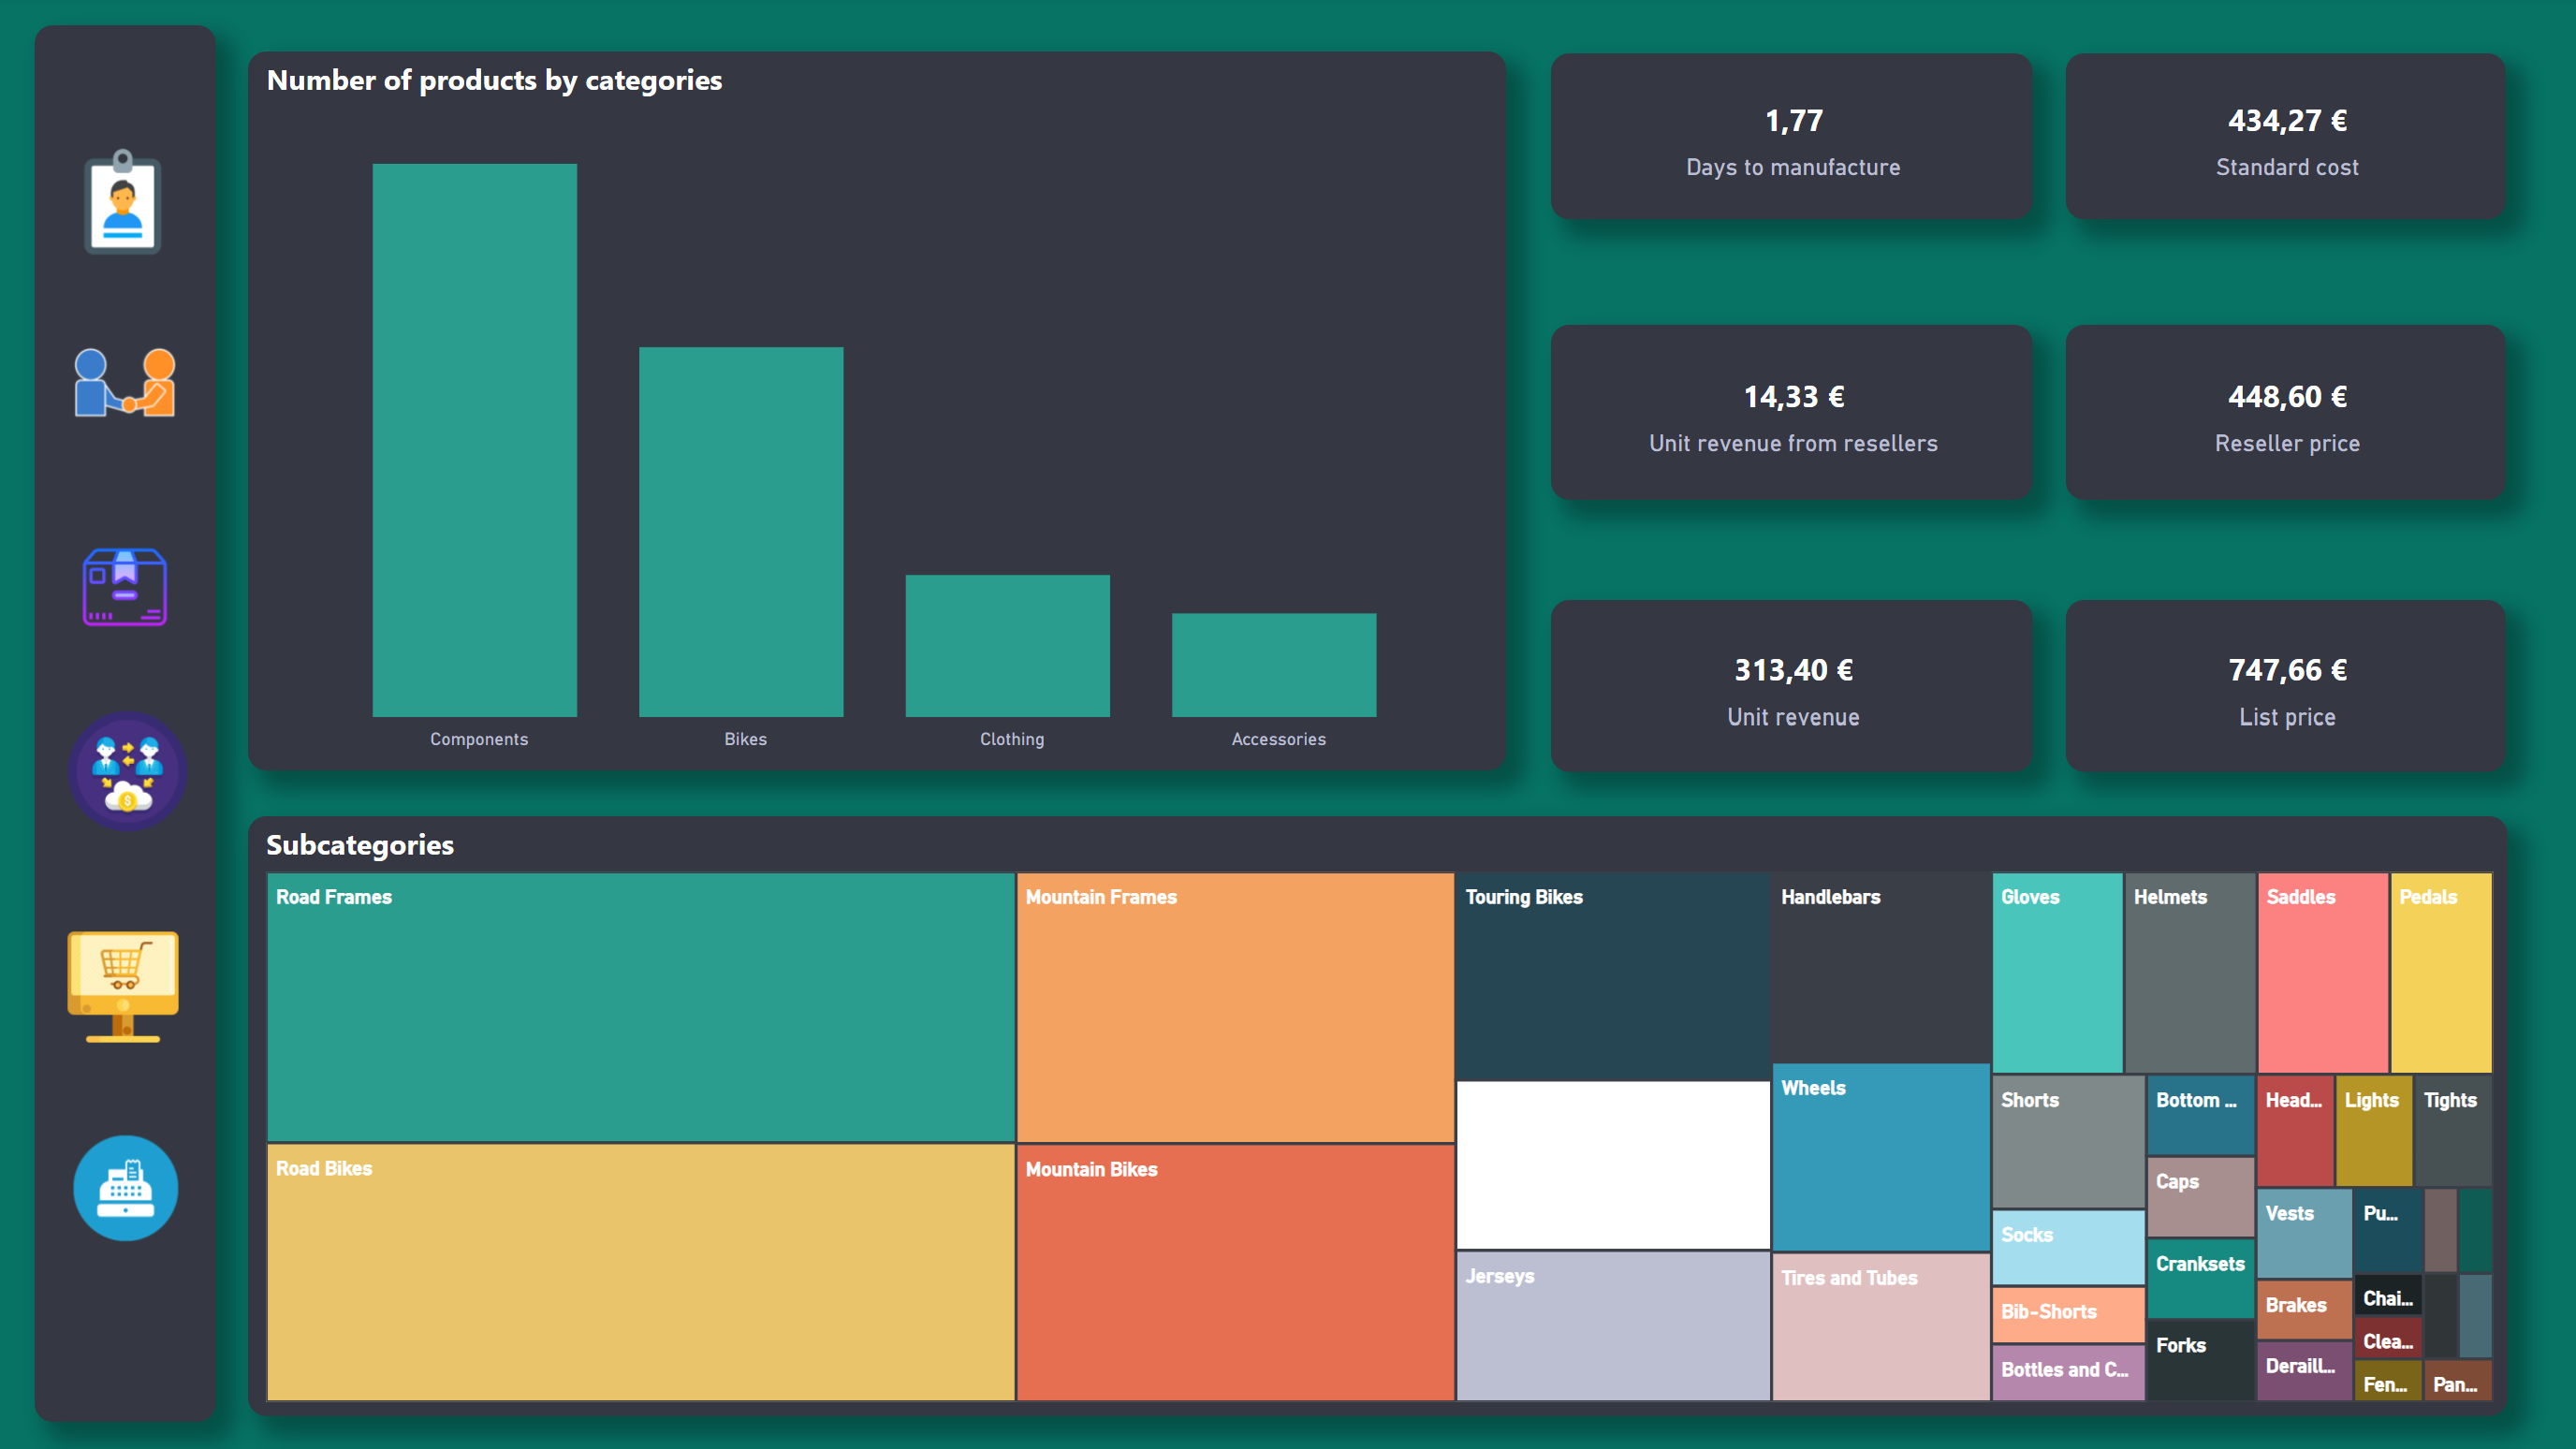

What the dashboard file says about the page in this screenshot:
{"tool":"powerbi","page":{"name":"Product","canvas":[1280,720],"ordinal":2},"visuals":[{"type":"columnChart","title":"Number of products by categories","fields":{"Y":["DimProduct.No.Product"],"Category":["DimProductCategory.Category"]},"box":[124.8,27.7,621.9,355.2],"z":0},{"type":"card","fields":{"Values":["Avg(DimProduct.DaysToManufacture)"]},"box":[769.1,28.8,237.9,82.1],"z":1000},{"type":"card","fields":{"Values":["Avg(DimProduct.DealerPrice)"]},"box":[1024,163.2,217.6,86.4],"z":2000},{"type":"card","fields":{"Values":["Avg(DimProduct.DealerRevenue)"]},"box":[769.1,163.2,237.9,86.4],"z":3000},{"type":"card","fields":{"Values":["Avg(DimProduct.StandardCost)"]},"box":[1024,28.8,217.6,82.1],"z":4000},{"type":"card","fields":{"Values":["Avg(DimProduct.UnitRevenue)"]},"box":[769.1,298.7,237.9,84.3],"z":5000},{"type":"card","fields":{"Values":["Avg(DimProduct.ListPrice)"]},"box":[1024,298.7,217.6,84.3],"z":6000},{"type":"treemap","title":"Subcategories","fields":{"Group":["DimProductSubcategory.Subcategory"],"Values":["DimProduct.No.Product"]},"box":[124.8,405.3,1116.8,296.5],"z":7000},{"type":"shape","box":[19.2,14.9,89.6,690.1],"z":8000},{"type":"actionButton","title":"Employee","box":[30.9,67.2,65.1,69.3],"z":9000},{"type":"actionButton","box":[30.9,152.5,65.1,75.7],"z":10000},{"type":"actionButton","box":[30.9,253.9,65.1,75.7],"z":11000},{"type":"actionButton","box":[25.6,343.5,76.8,77.9],"z":12000},{"type":"actionButton","box":[25.6,452.3,76.8,72.5],"z":13000},{"type":"actionButton","box":[30.9,552.5,66.1,71.5],"z":14000}]}

Visuals, with their boxes on the page's 1280x720 design canvas (x1, y1, x2, y2). These are canvas units, not pixel positions in the 2576x1449 screenshot, which may show the page scaled, cropped or inside an application window:
"Number of products by categories" columnChart: BBox(125, 28, 747, 383)
card - Avg(DimProduct.DaysToManufacture): BBox(769, 29, 1007, 111)
card - Avg(DimProduct.DealerPrice): BBox(1024, 163, 1242, 250)
card - Avg(DimProduct.DealerRevenue): BBox(769, 163, 1007, 250)
card - Avg(DimProduct.StandardCost): BBox(1024, 29, 1242, 111)
card - Avg(DimProduct.UnitRevenue): BBox(769, 299, 1007, 383)
card - Avg(DimProduct.ListPrice): BBox(1024, 299, 1242, 383)
"Subcategories" treemap: BBox(125, 405, 1242, 702)
shape: BBox(19, 15, 109, 705)
"Employee" actionButton: BBox(31, 67, 96, 136)
actionButton: BBox(31, 152, 96, 228)
actionButton: BBox(31, 254, 96, 330)
actionButton: BBox(26, 344, 102, 421)
actionButton: BBox(26, 452, 102, 525)
actionButton: BBox(31, 552, 97, 624)
